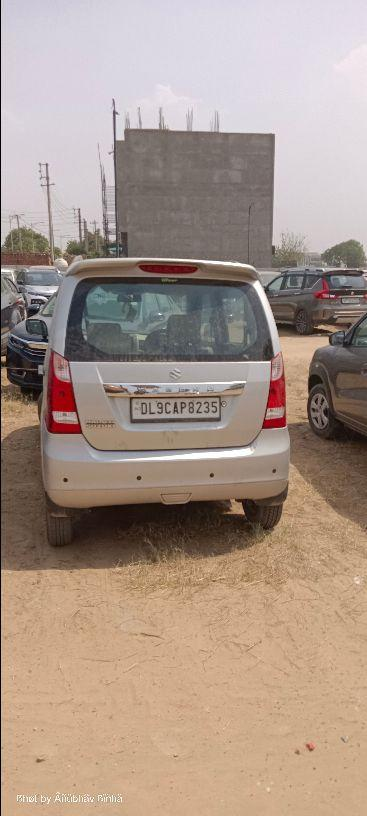license_plate: (129, 395, 221, 422)
